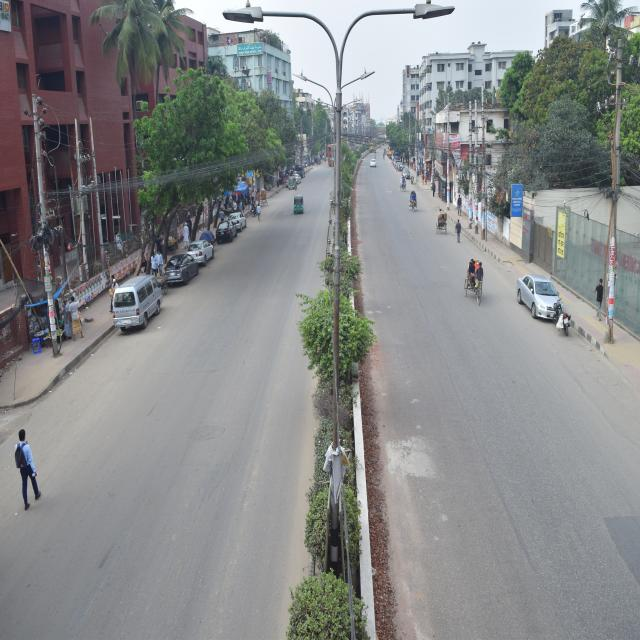car: (514, 267, 567, 329), (160, 244, 201, 288), (211, 215, 241, 248), (187, 236, 218, 265), (231, 205, 257, 233)
microbus: (92, 260, 168, 336)
motorbike: (546, 297, 572, 339)
